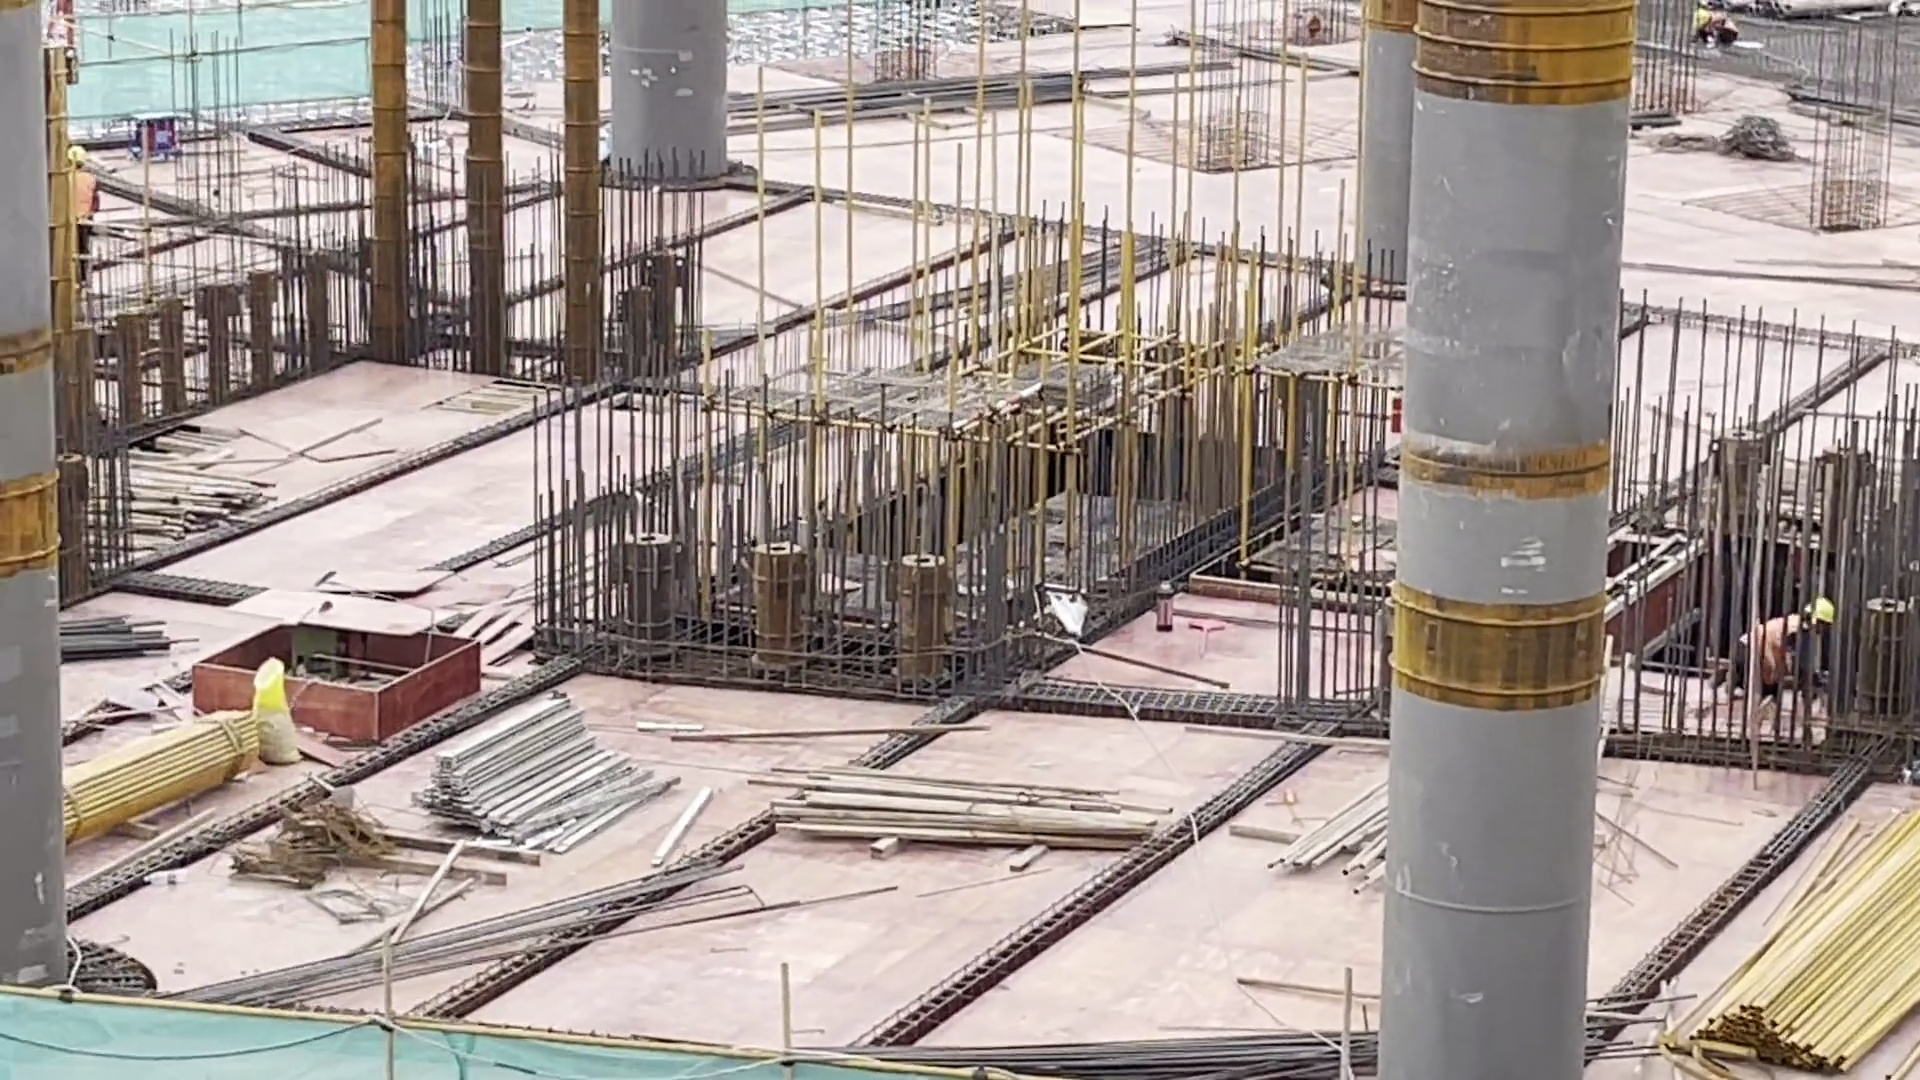helmet: (1805, 595, 1838, 627)
person: (1717, 594, 1842, 712)
wood: (758, 759, 1180, 868)
